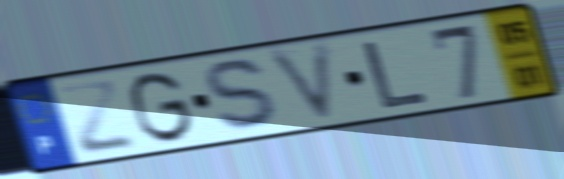7: (425, 24, 485, 103)
G: (127, 68, 198, 147)
L: (360, 38, 433, 112)
S: (201, 56, 288, 135)
V: (261, 36, 340, 129)
Z: (54, 78, 140, 159)
